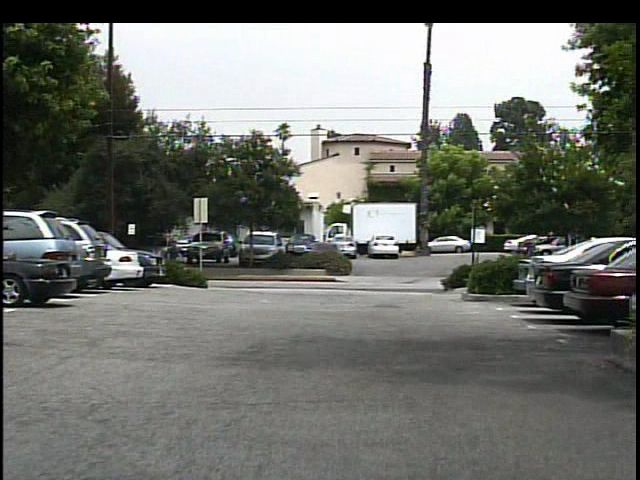person: (165, 239, 187, 282)
